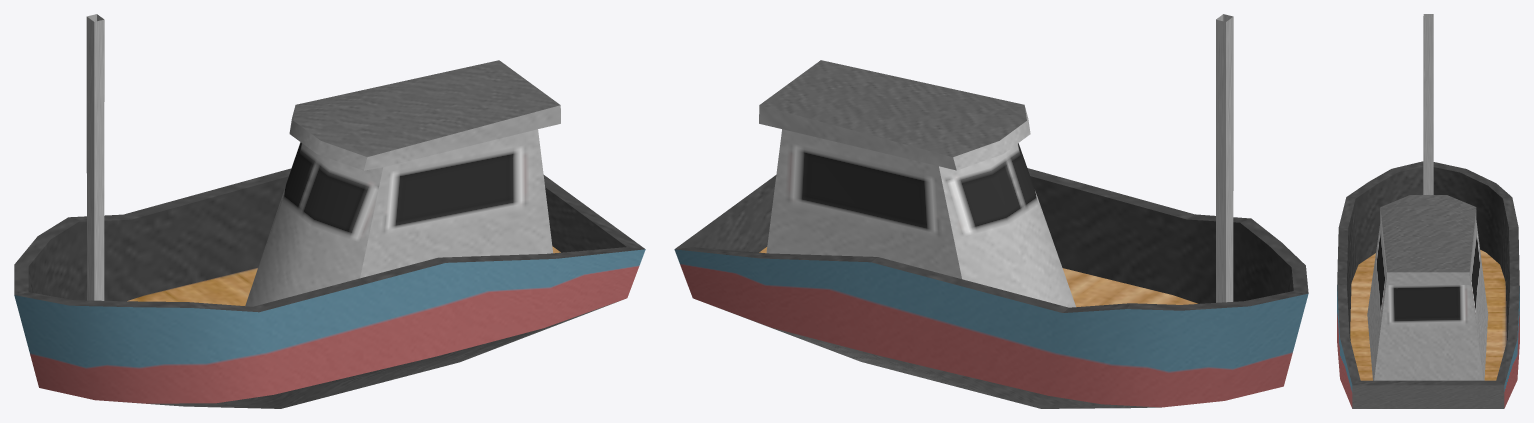
File: kater2.FBX
The picture shows the model from 3 angles, left to right: view 1: azimuth 30°, elevation 25°; view 2: azimuth 150°, elevation 25°; view 3: azimuth 270°, elevation 25°; orthographic projection. The views are drawn at different scales.
Parts seen in each view (by area): view 1: kater2; view 2: kater2; view 3: kater2.
Part boxes in pixels (left/top/right/bottom): kater2: left=14, top=14, right=645, bottom=408; kater2: left=674, top=14, right=1308, bottom=408; kater2: left=1337, top=14, right=1519, bottom=408.
Bounding box in the file's own units: 821 × 533 × 336.
